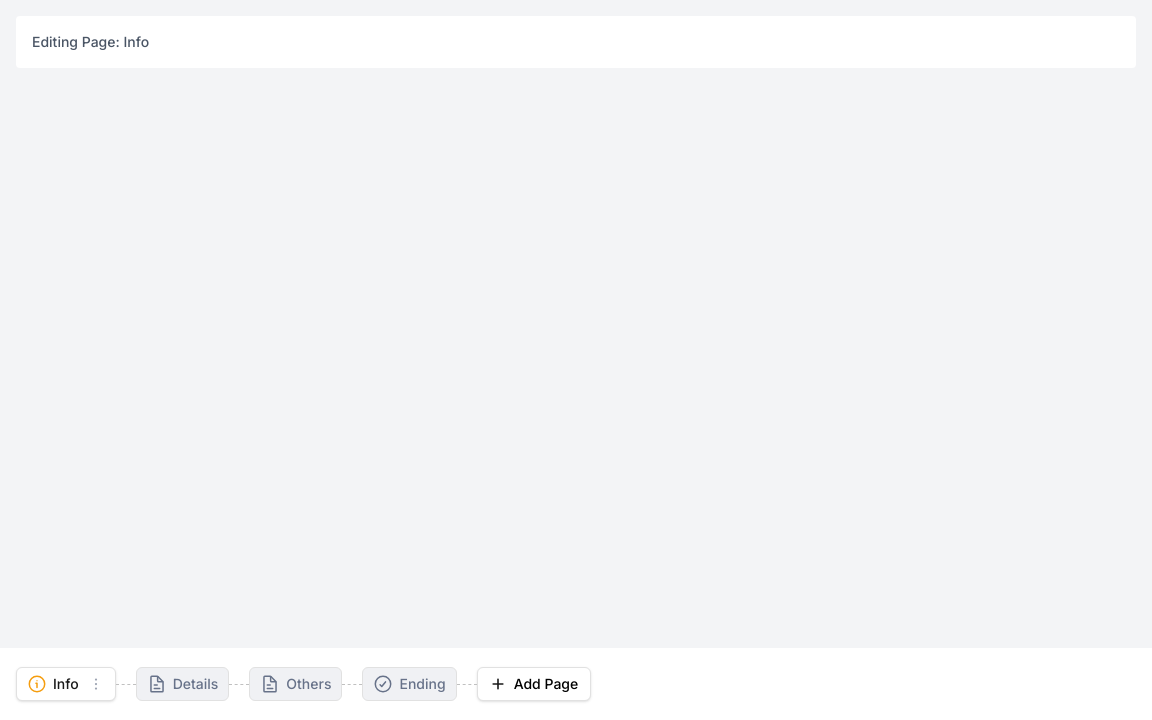
Scenario: FormBuilder › Highlighting active page › Highlights the current page in editing mode
Click the button with test id "page-nav-item" showing "Details" at [182, 684], box 136,667 -> 229,701
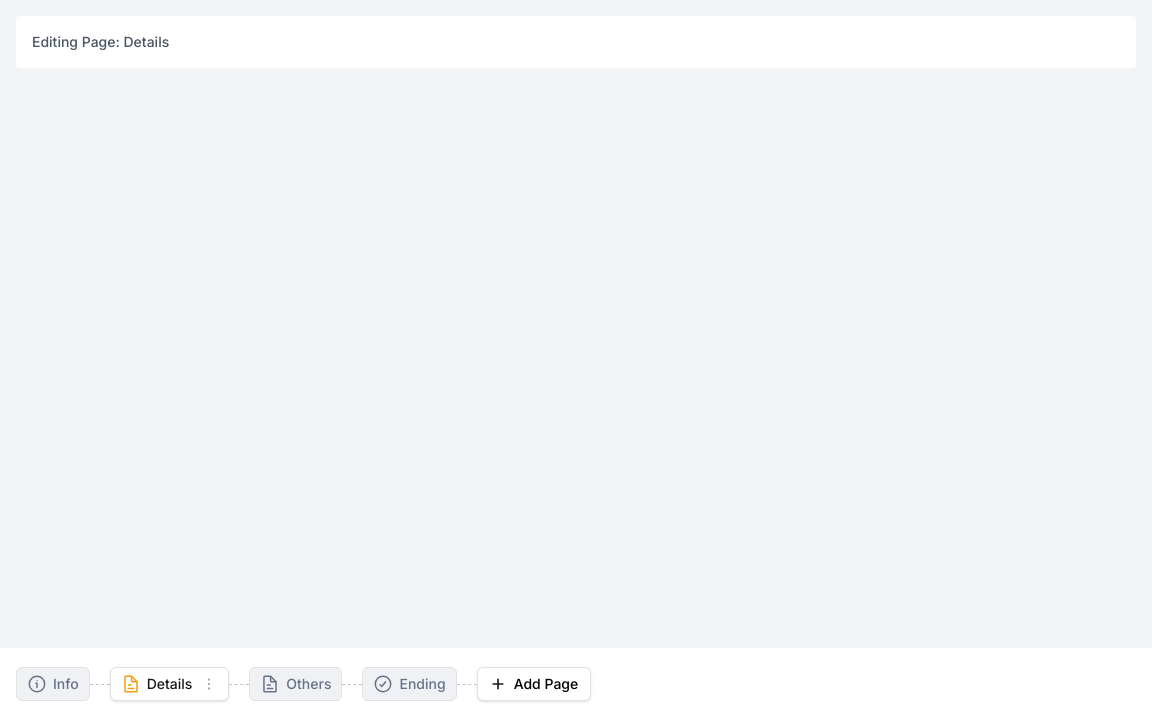
Expected: the text with test id "page-editor-info" reads "Editing Page: Details", 32,33 -> 169,50
